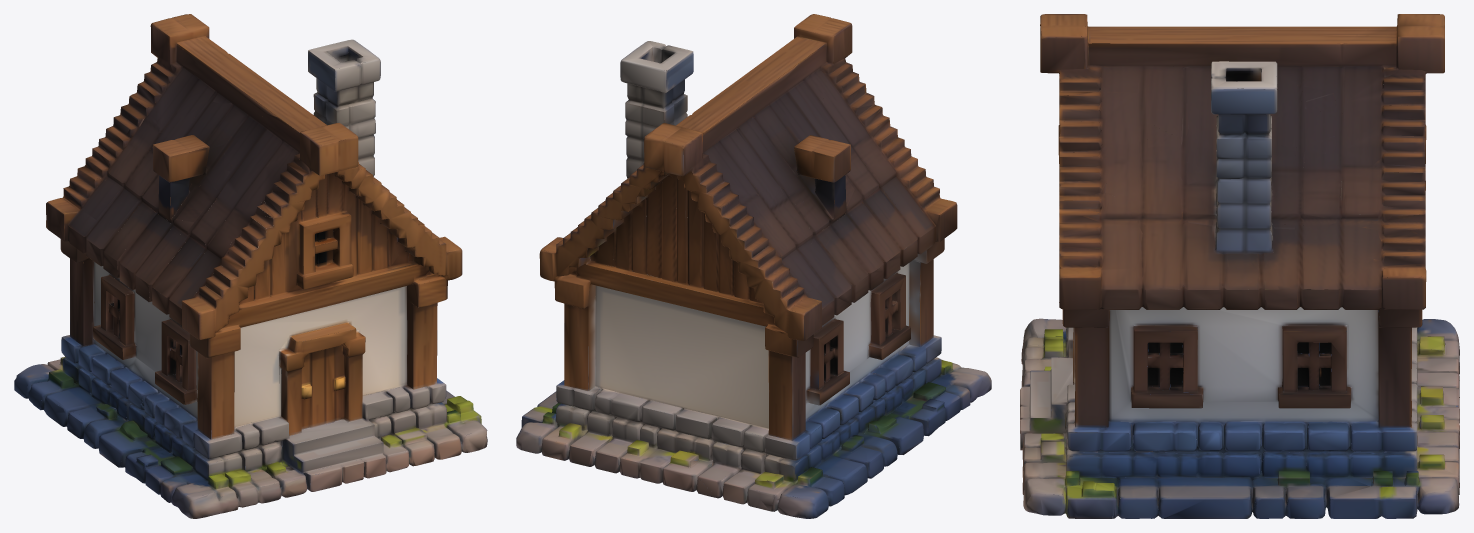
File: village _house_t5.glb
3 renders of one model, left to right at view 1: azimuth 30°, elevation 25°; view 2: azimuth 150°, elevation 25°; view 3: azimuth 270°, elevation 25°, orthographic. The views are drawn at different scales.
Visible parts, largest first — view 1: node_0; view 2: node_0; view 3: node_0.
Boxes of the visible parts, <box> form: node_0: <box>14,14,487,518</box>; node_0: <box>516,14,991,518</box>; node_0: <box>1020,14,1459,518</box>.
Size of the model in its own units: 0.6872 by 0.7187 by 0.7044.
1 material, 1 textured.
